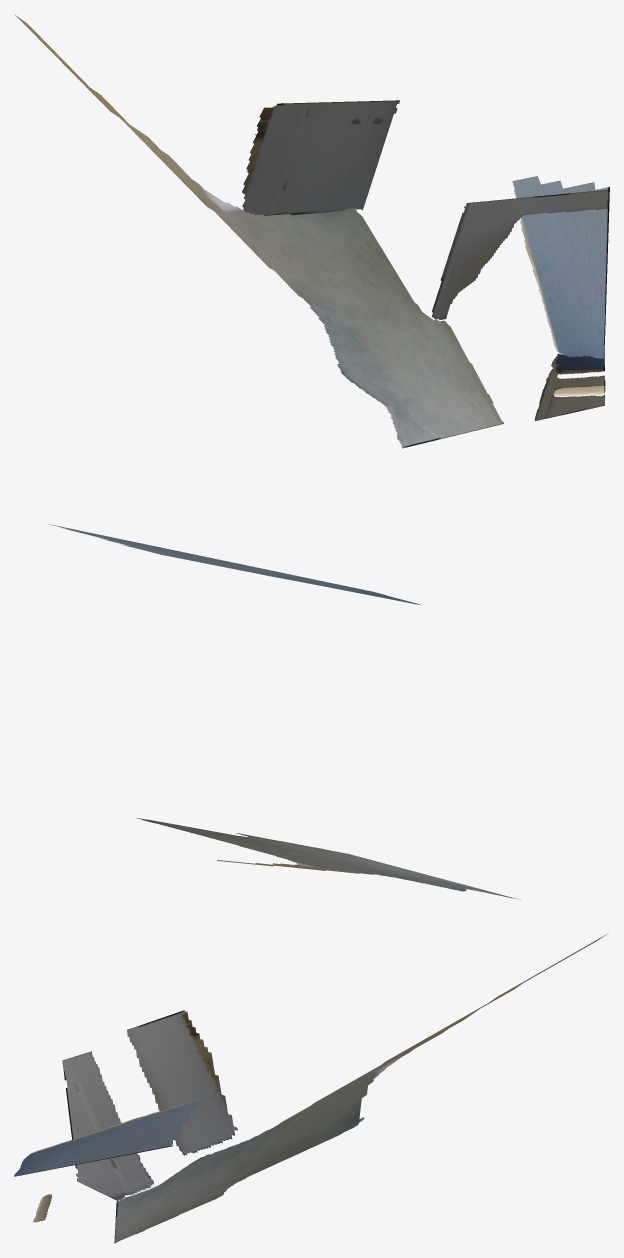
The model's file is 360_d2_depth_predplane_pred_model.glb.
3 views of the same model, one above another, from view 1: azimuth 30°, elevation 25°; view 2: azimuth 150°, elevation 25°; view 3: azimuth 270°, elevation 25° (orthographic). The views are drawn at different scales.
Bounding box in the file's own units: 3.02 × 2.29 × 5.14.
